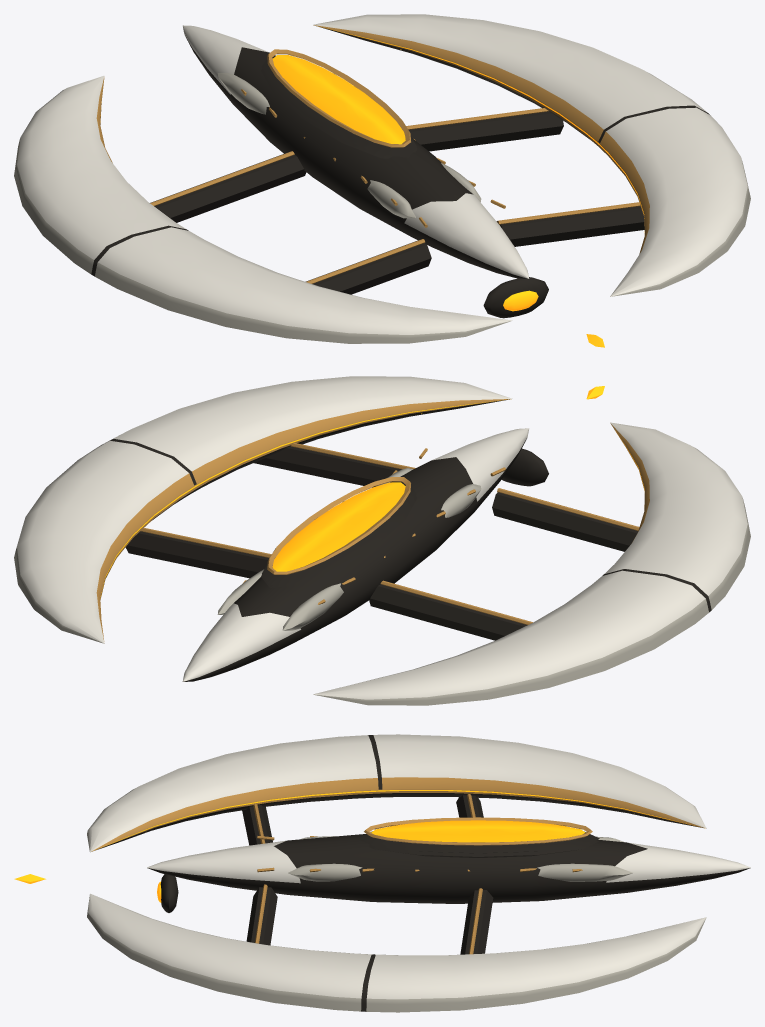
Rendered from 03_zerstoerer.glb.
The picture shows the model from 3 angles, top to bottom: view 1: azimuth 30°, elevation 25°; view 2: azimuth 150°, elevation 25°; view 3: azimuth 270°, elevation 25°; orthographic projection. The views are drawn at different scales.
Parts seen in each view (by area): view 1: Hull, energy_1, energy_2; view 2: Hull, energy_1, energy_2; view 3: Hull, energy_1, energy_2.
Boxes of the visible parts, x1,y1,x2,y2 form: Hull: (14,14,750,343); energy_1: (261,49,416,157); energy_2: (483,277,548,318); Hull: (14,376,750,705); energy_1: (262,477,416,584); energy_2: (501,448,548,486); Hull: (87,734,750,1012); energy_1: (357,817,599,853); energy_2: (157,874,178,912).
Bounding box in the file's own units: 10 × 1.43 × 11.78.
